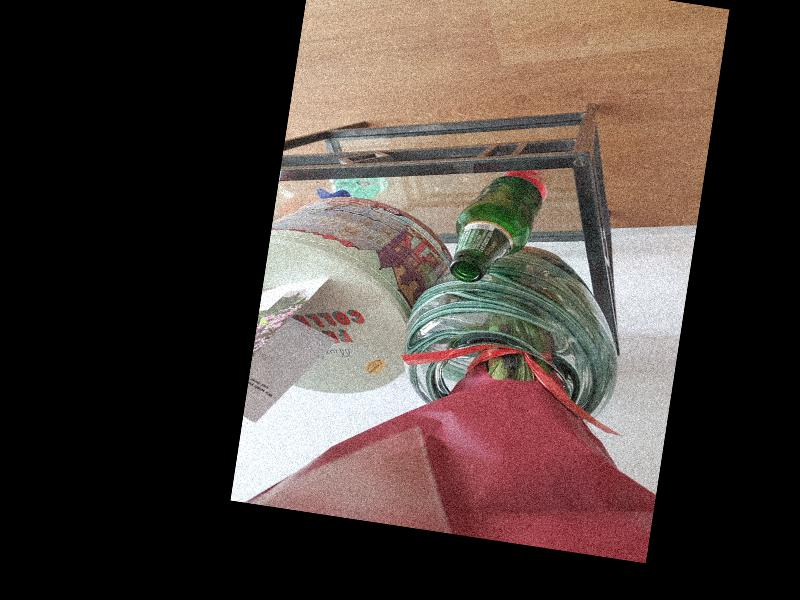Beer: (447, 169, 546, 290)
